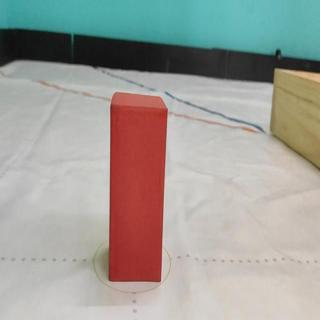redbox: (109, 91, 169, 280)
